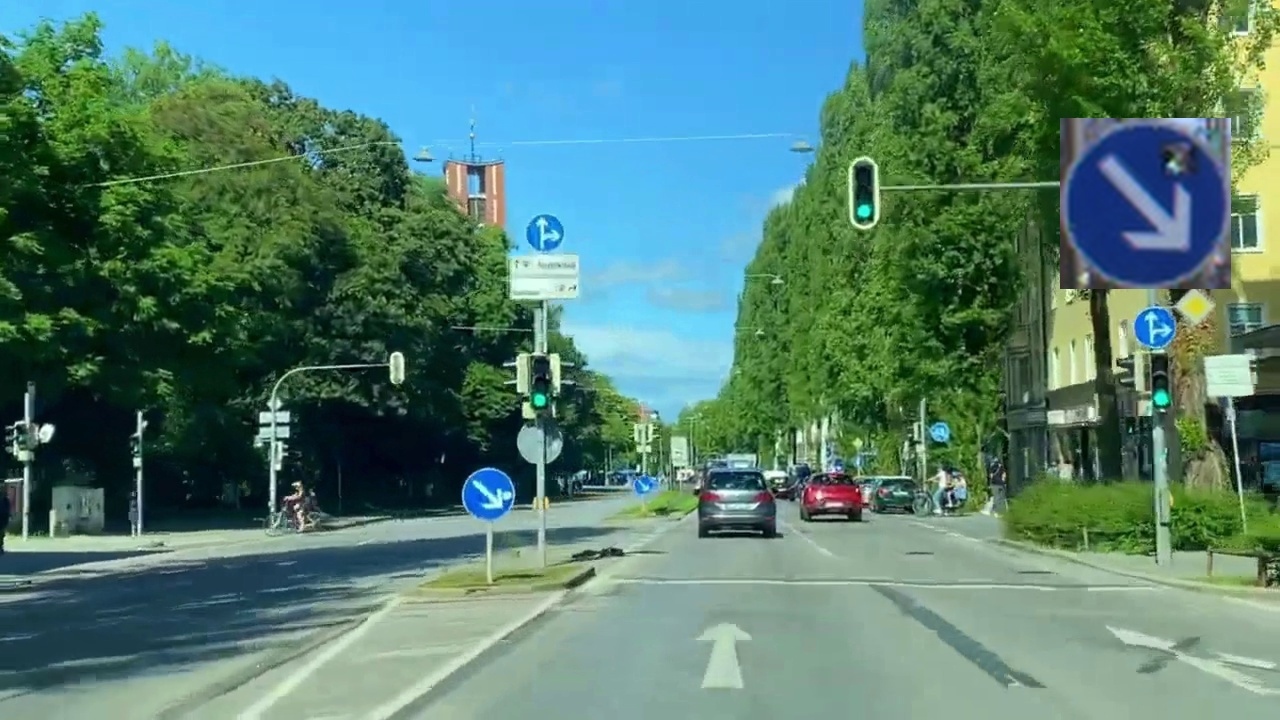Keep right: (1060, 118, 1231, 289)
